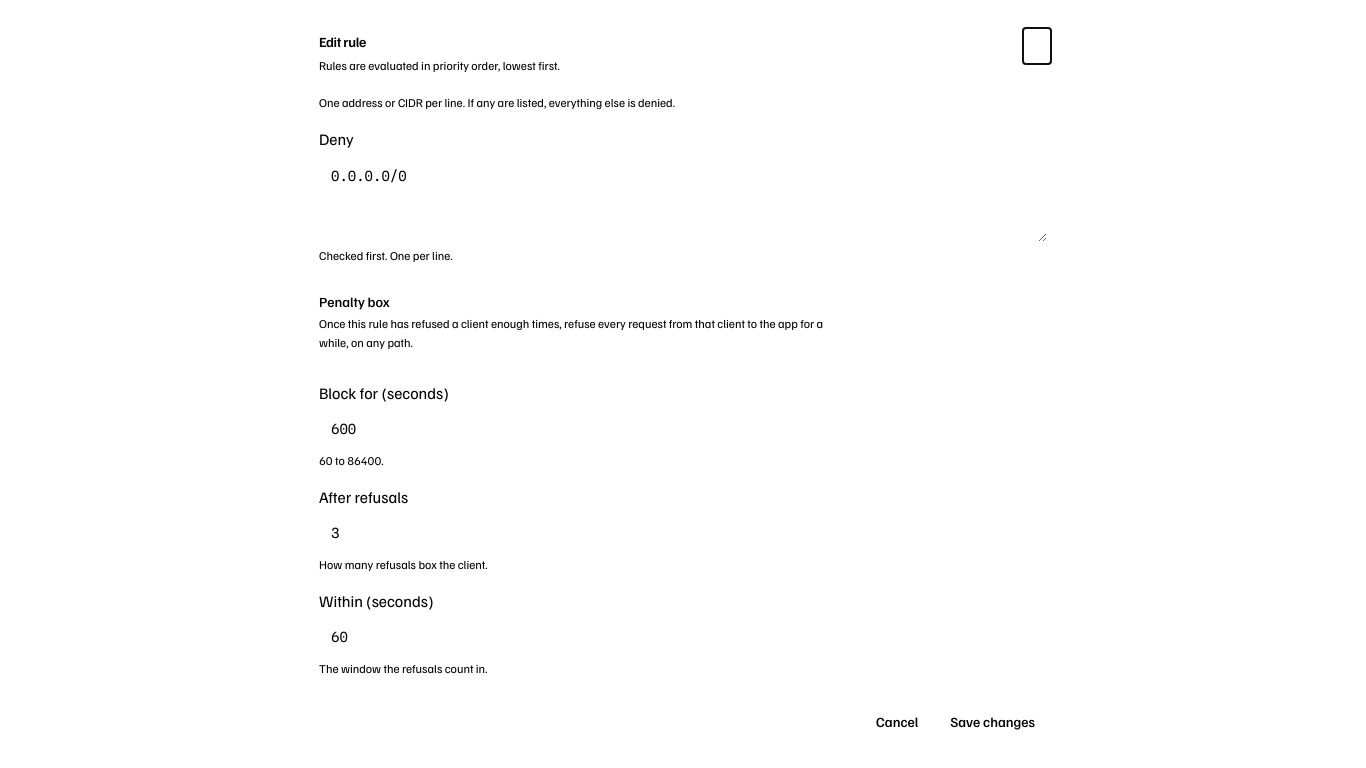
Test: penalty box › refuses a penalty outside 60 s to 24 h before the round trip
The width and height of the screenshot is (1366, 768).
(page scrolled)
Replace the text in the number field labelled "Block for (seconds) 60 to 86400." with "30" at (683, 428), box [319,410,1047,446]
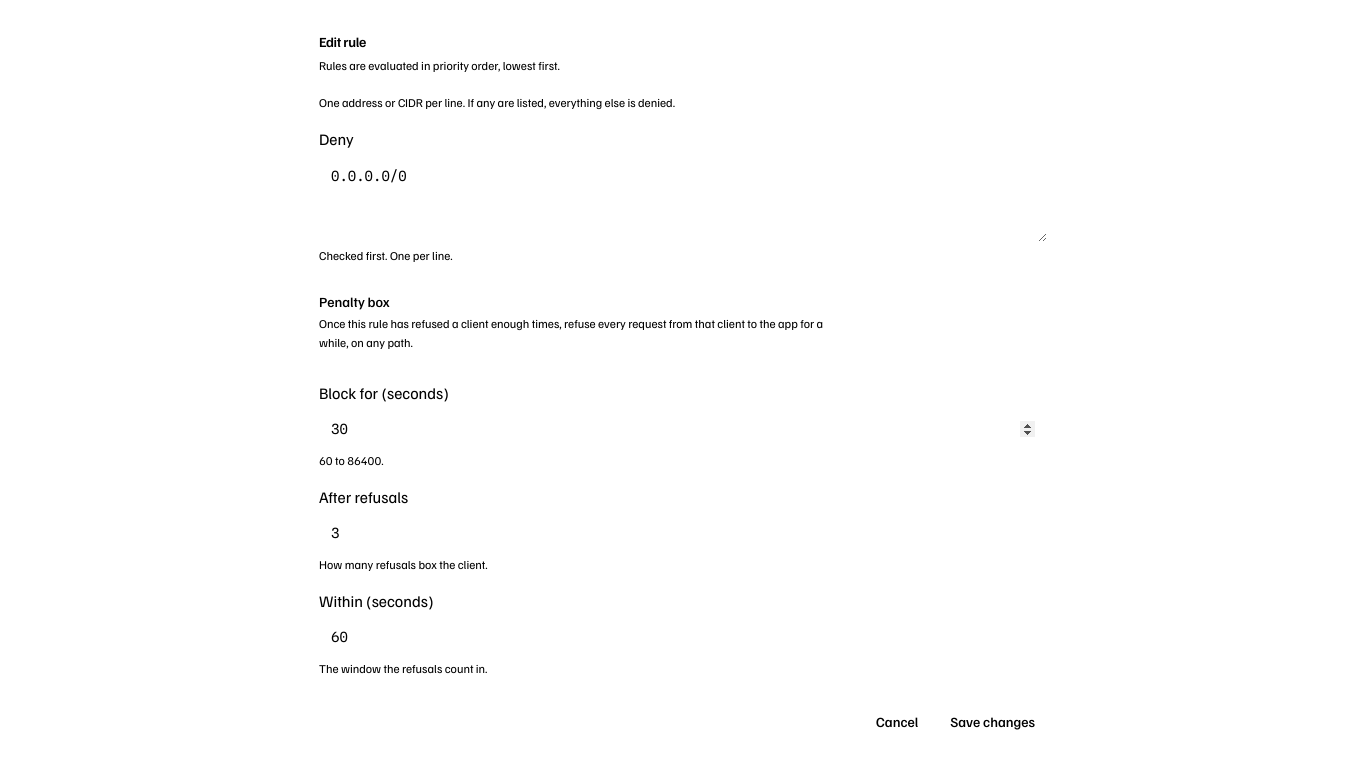
Click the button "Save changes" at (993, 722), box [938,706,1047,738]
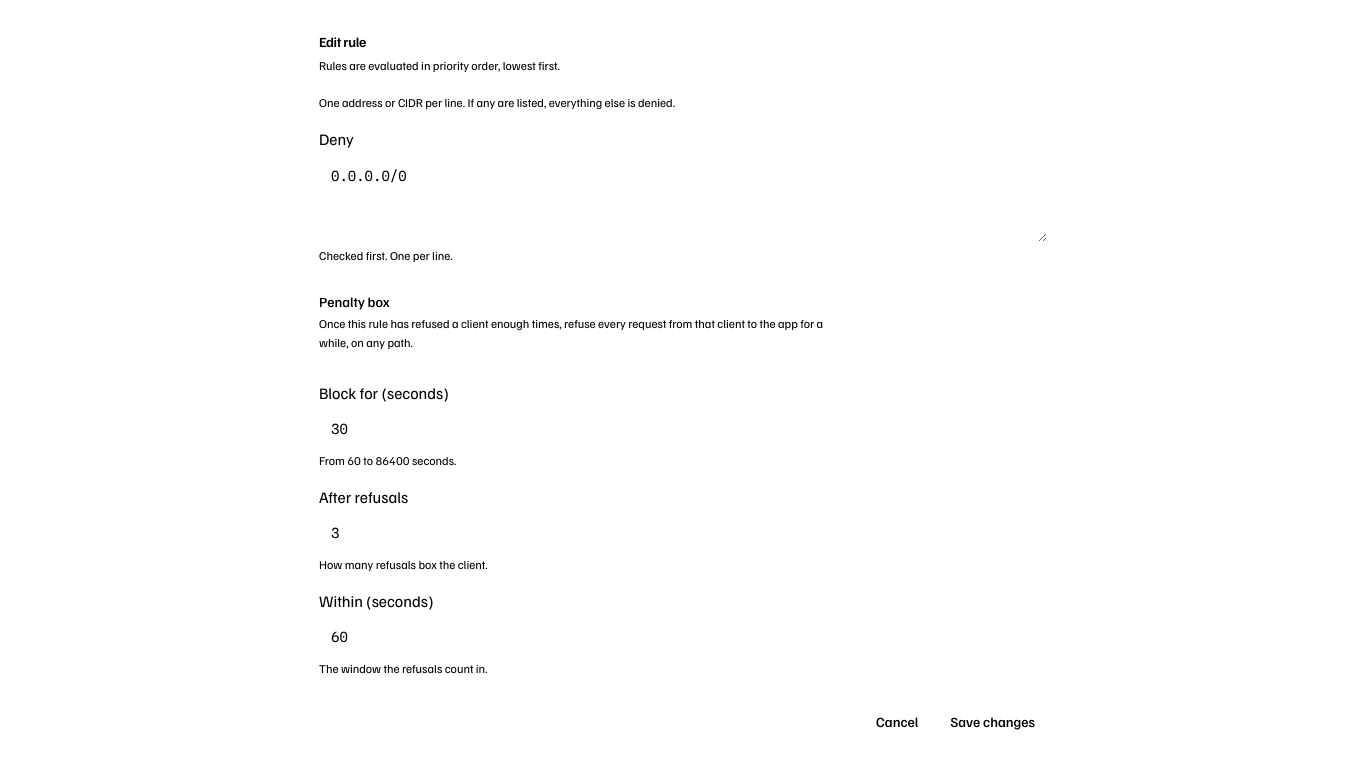
Now the text "From 60 to 86400 seconds." is shown, box [319,452,456,468]
